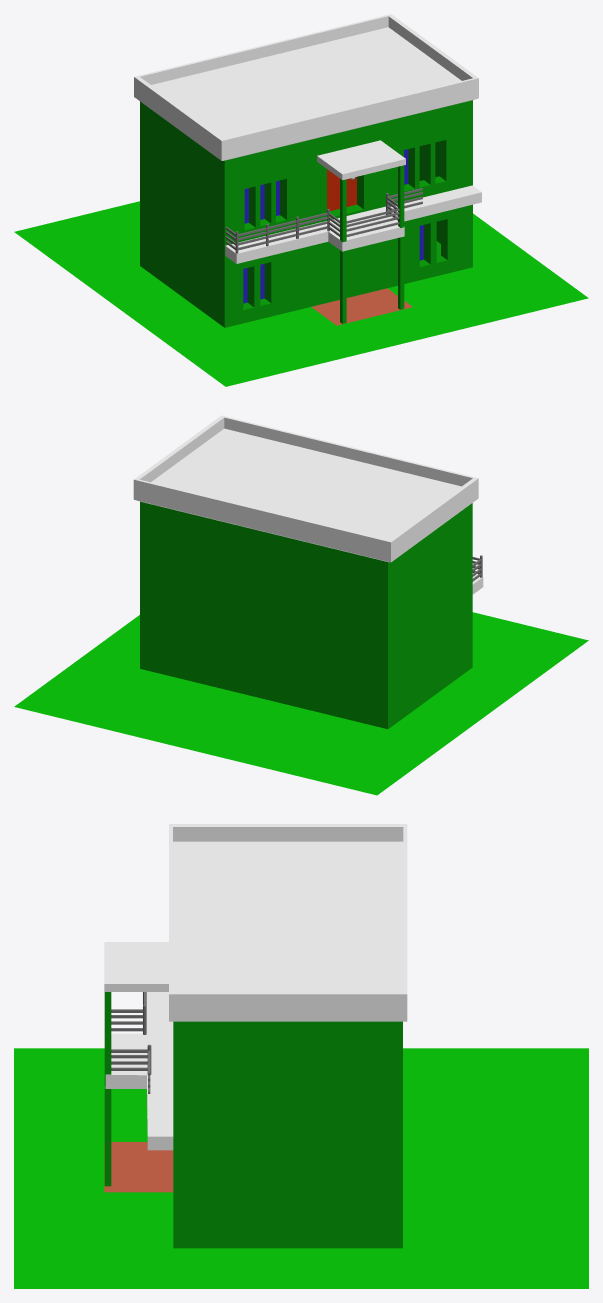
Rendered from house2_green.obj.
3 renders of one model, top to bottom at view 1: azimuth 30°, elevation 25°; view 2: azimuth 150°, elevation 25°; view 3: azimuth 270°, elevation 25°, orthographic. The views are drawn at different scales.
Visible parts, largest first — view 1: Cube.166_Cube.256, Plane.033_Plane.034, Cube.104_Cube.195, Cube.154_Cube.244, Cube.102_Cube.193, Cube.165_Cube.255, Cube.100_Cube.191, Cube.101_Cube.192; view 2: Cube.166_Cube.256, Plane.033_Plane.034; view 3: Cube.166_Cube.256, Plane.033_Plane.034, Cube.104_Cube.195, Cube.154_Cube.244, Cube.101_Cube.192, Cube.102_Cube.193.
Part boxes in pixels (x1,y1,x2,y2): Cube.166_Cube.256: (134, 14, 478, 327); Plane.033_Plane.034: (14, 201, 588, 386); Cube.104_Cube.195: (225, 185, 481, 263); Cube.154_Cube.244: (311, 288, 412, 325); Cube.102_Cube.193: (340, 165, 404, 242); Cube.165_Cube.255: (327, 169, 356, 211); Cube.100_Cube.191: (340, 250, 346, 323); Cube.101_Cube.192: (398, 236, 404, 309); Cube.166_Cube.256: (133, 415, 478, 729); Plane.033_Plane.034: (14, 612, 588, 795); Cube.166_Cube.256: (104, 824, 407, 1248); Plane.033_Plane.034: (14, 1048, 588, 1288); Cube.104_Cube.195: (105, 992, 173, 1150); Cube.154_Cube.244: (104, 1142, 173, 1192); Cube.101_Cube.192: (104, 1086, 111, 1186); Cube.102_Cube.193: (104, 992, 111, 1075).
Bounding box in the file's own units: 21.52 × 10.82 × 21.73.
